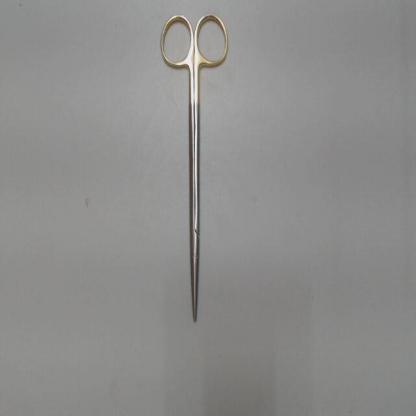7 Metzenbaum Scissors: (158, 8, 233, 327)
